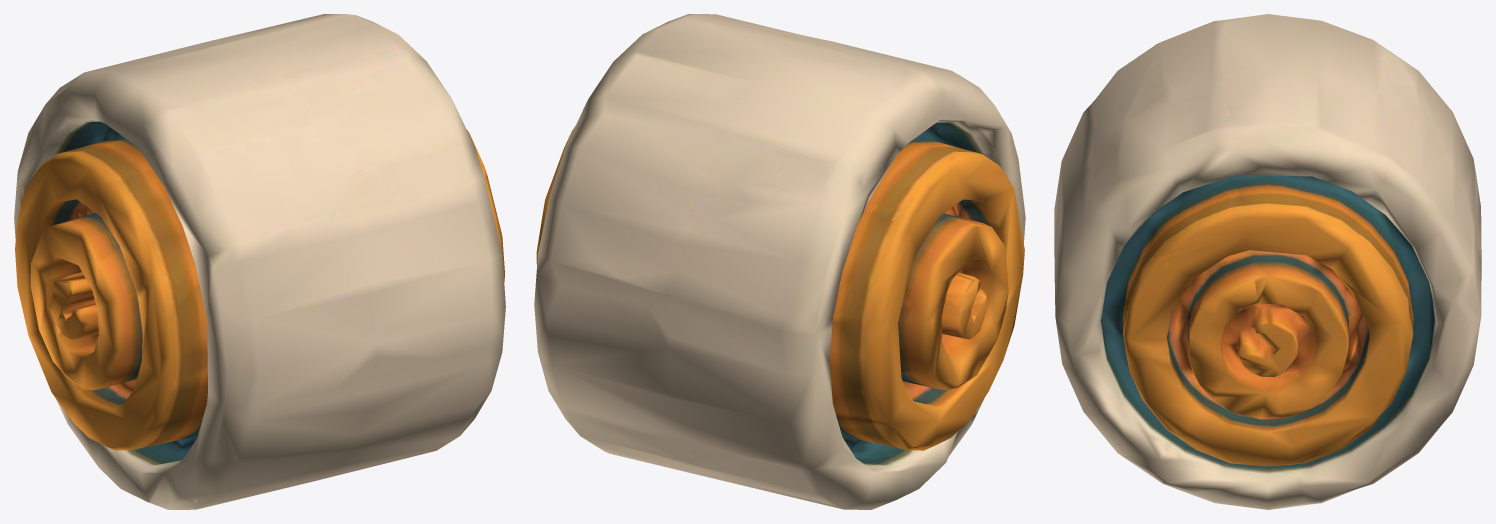
Rendered from m3d_moneda-g1.glb.
The picture shows the model from 3 angles, left to right: view 1: azimuth 30°, elevation 25°; view 2: azimuth 150°, elevation 25°; view 3: azimuth 270°, elevation 25°; orthographic projection. The views are drawn at different scales.
Visible parts, largest first — view 1: tripo_node_da843ef9-a6d0-4c22-a6d2-45cbf93a635d; view 2: tripo_node_da843ef9-a6d0-4c22-a6d2-45cbf93a635d; view 3: tripo_node_da843ef9-a6d0-4c22-a6d2-45cbf93a635d.
Part boxes in pixels (bbox=[...]): tripo_node_da843ef9-a6d0-4c22-a6d2-45cbf93a635d: bbox=[14, 14, 505, 509]; tripo_node_da843ef9-a6d0-4c22-a6d2-45cbf93a635d: bbox=[534, 14, 1025, 509]; tripo_node_da843ef9-a6d0-4c22-a6d2-45cbf93a635d: bbox=[1054, 14, 1481, 509].
Bounding box in the file's own units: 0.9859 × 0.9994 × 0.9989.
Materials: 1 (1 with a texture image).
